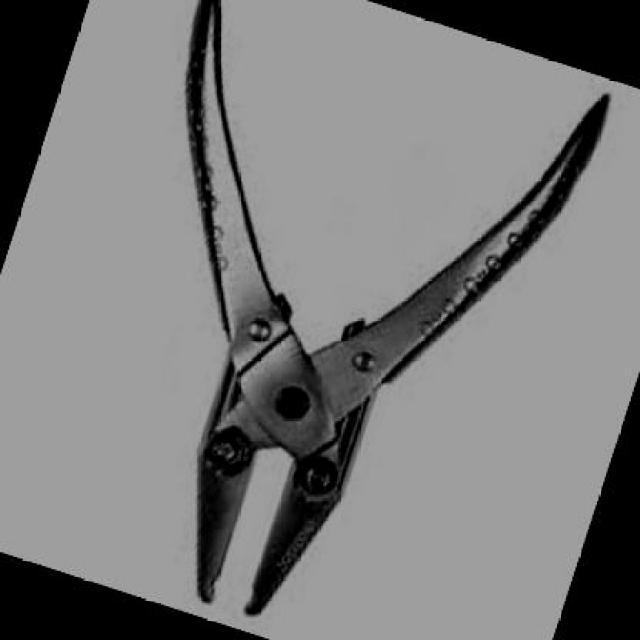pliers: (0, 0, 635, 638)
